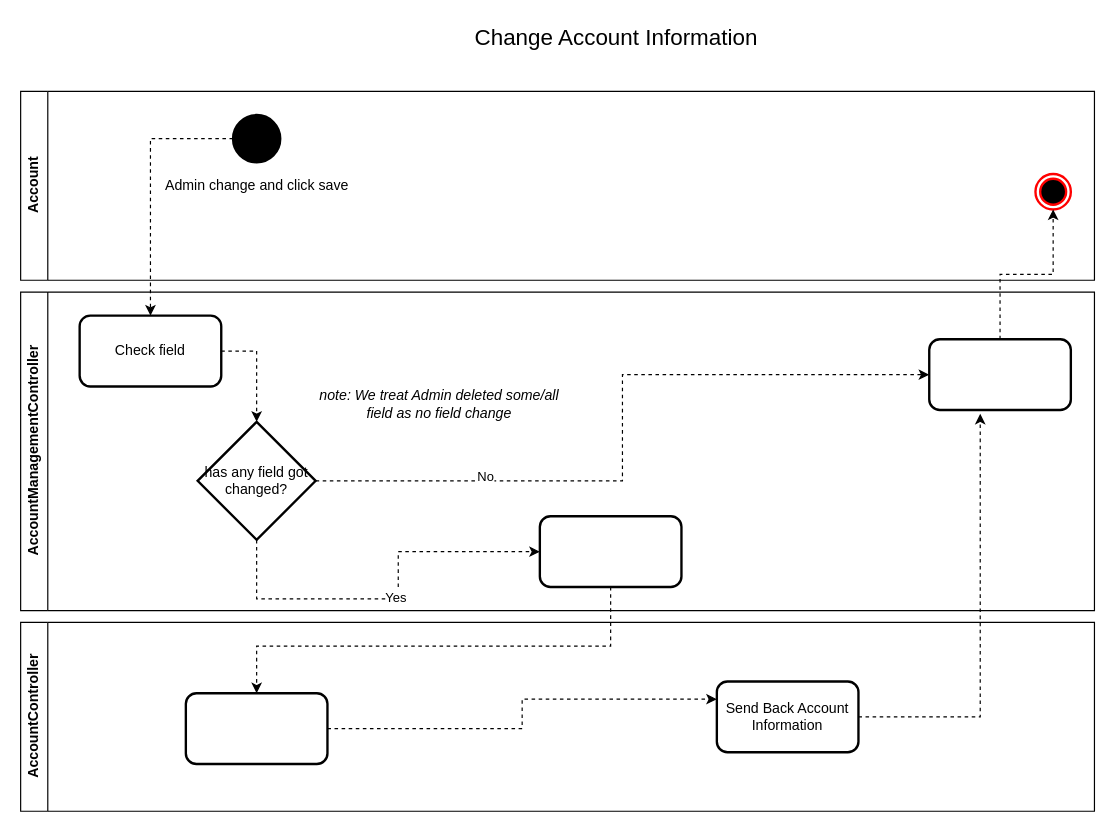
The diagram is 1115 pixels wide and 832 high, and some of its shapes have lost their labels. The shapes that lost their labels are listed below. From the top down, each one's centre as x and y in pixels, then its label:
At [999,374]: "Display Account Information".
At [610,551]: "Send Request with new Account Information".
At [256,728]: "Update Account information in DB".
